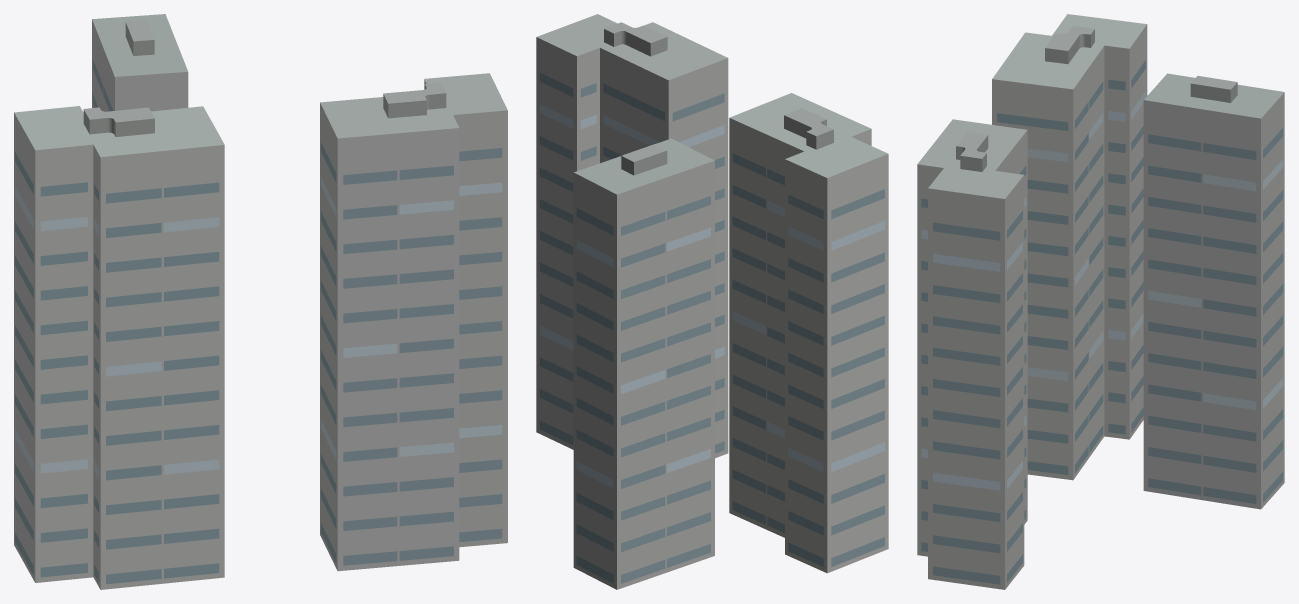
File: apt-a14319302.glb
3 views of the same model, side by side, from view 1: azimuth 30°, elevation 25°; view 2: azimuth 150°, elevation 25°; view 3: azimuth 270°, elevation 25° (orthographic). The views are drawn at different scales.
Visible parts, largest first — view 1: apt-a14319302; view 2: apt-a14319302; view 3: apt-a14319302.
Part boxes in pixels (left/top/right/bottom): apt-a14319302: left=14, top=14, right=507, bottom=589; apt-a14319302: left=536, top=14, right=888, bottom=589; apt-a14319302: left=917, top=14, right=1284, bottom=589.
Bounding box in the file's own units: 71.72 × 73 × 60.15.
